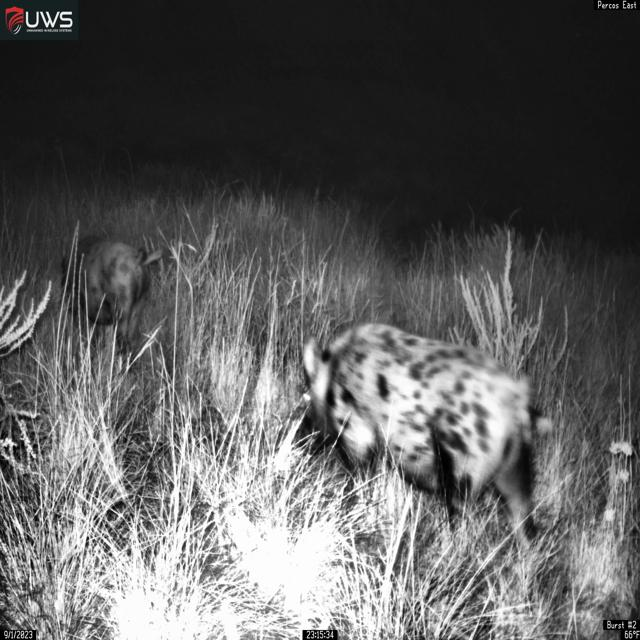pig: (292, 321, 554, 558)
